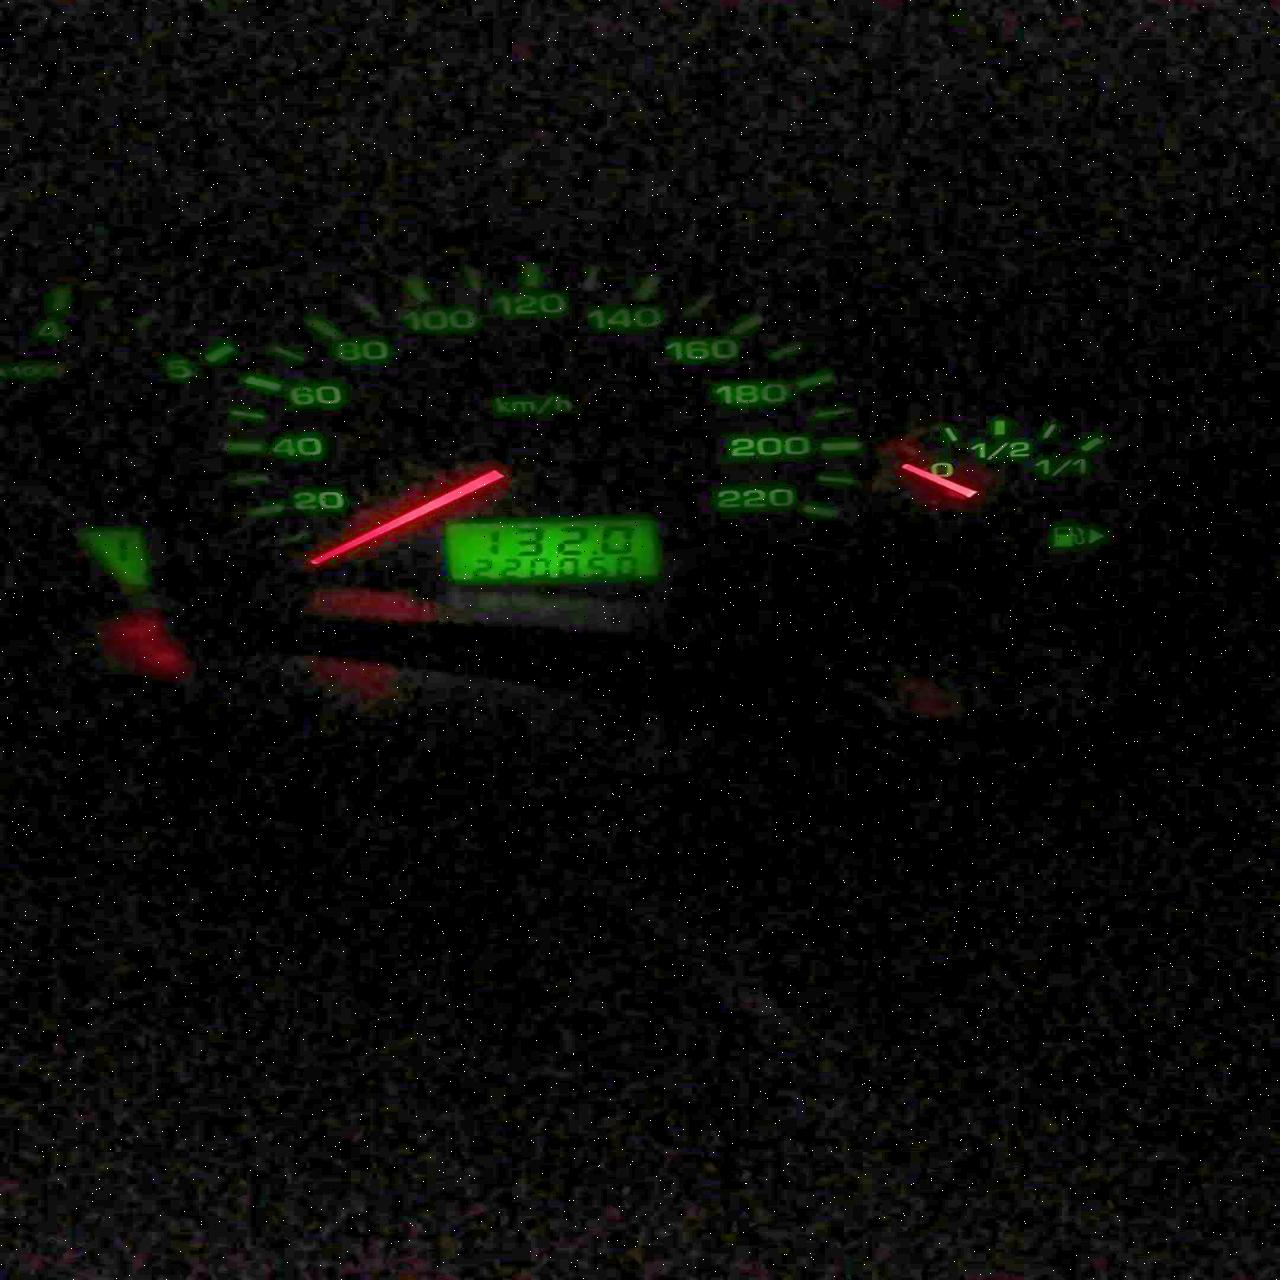-: (592, 550, 599, 554)
0: (600, 523, 633, 553), (556, 557, 579, 577), (527, 558, 551, 578), (614, 556, 636, 576)
1: (488, 530, 501, 554)
2: (554, 524, 586, 554), (498, 557, 520, 579), (471, 558, 493, 579)
3: (515, 526, 543, 556)
5: (585, 557, 607, 577)
odometer: (440, 517, 661, 584)
